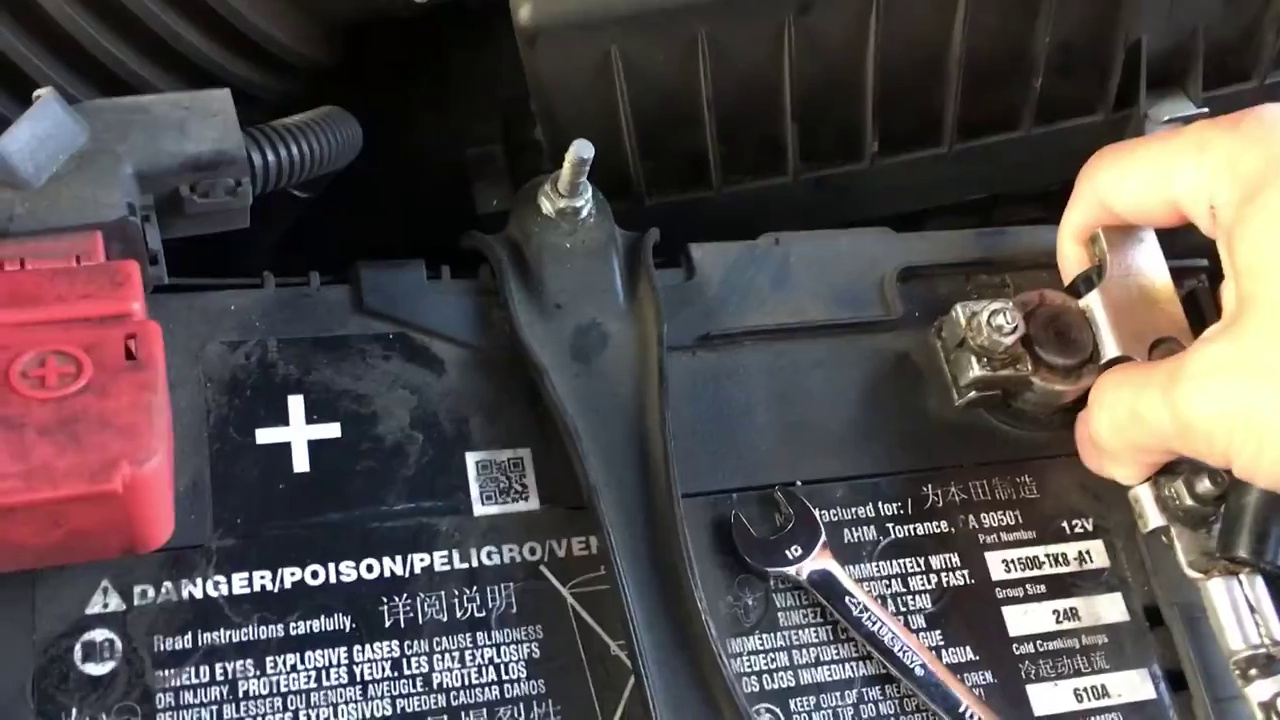battery: (7, 191, 1242, 720)
neg_connected: (930, 216, 1201, 418)
neg_touched: (984, 134, 1280, 539)
pos_touched: (1, 194, 200, 533)
